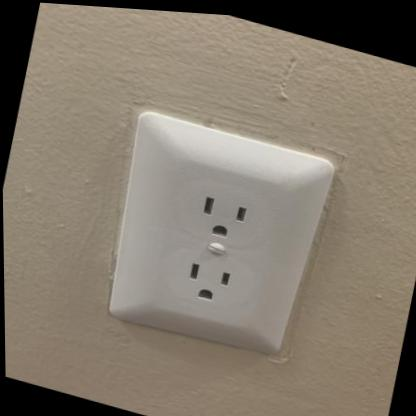OUTLET: (93, 102, 328, 369)
